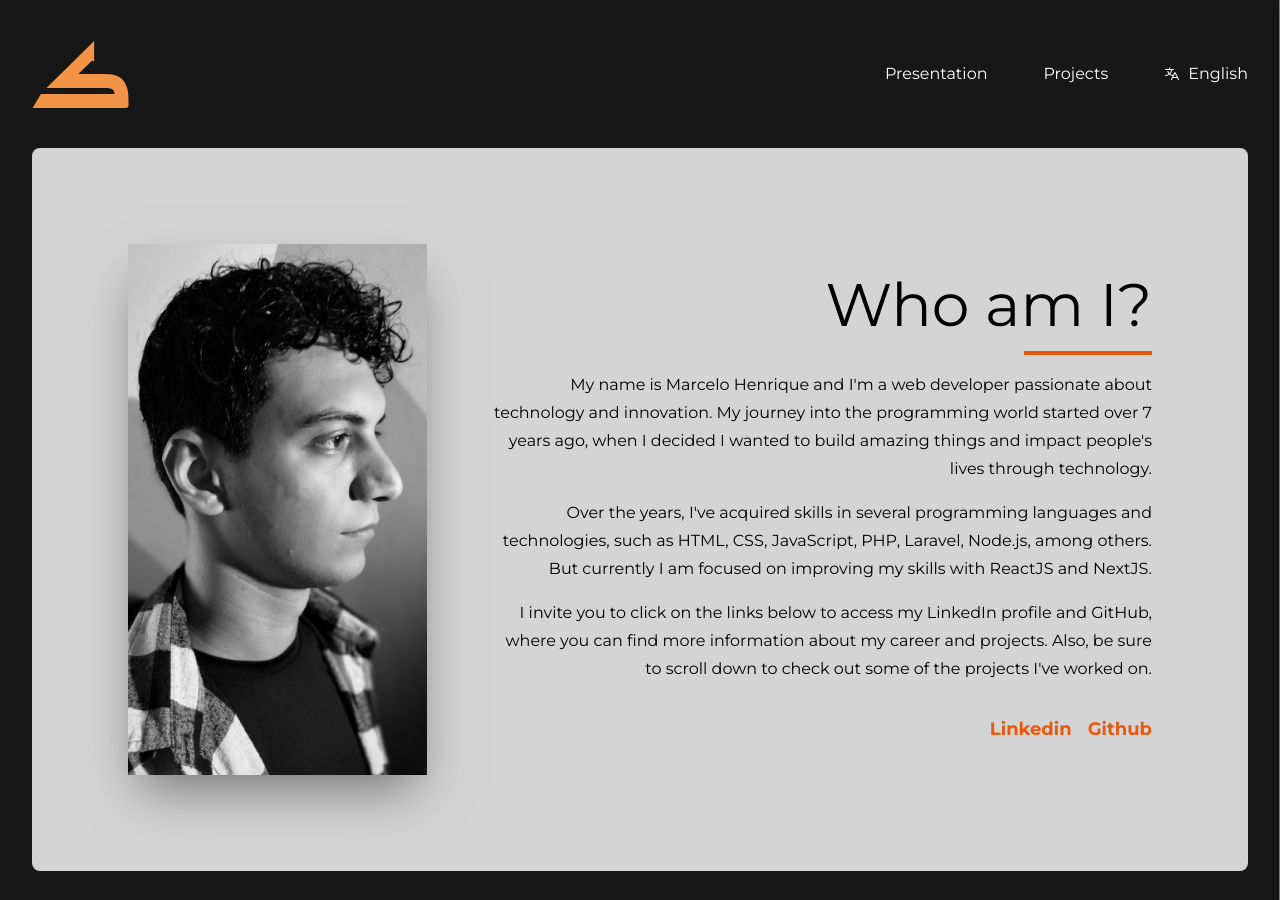
Test: Change languages › should change presentation title language when user choose another language on dropdown
Click the button "English". click: (1206, 74)
box: [1164, 62, 1248, 86]
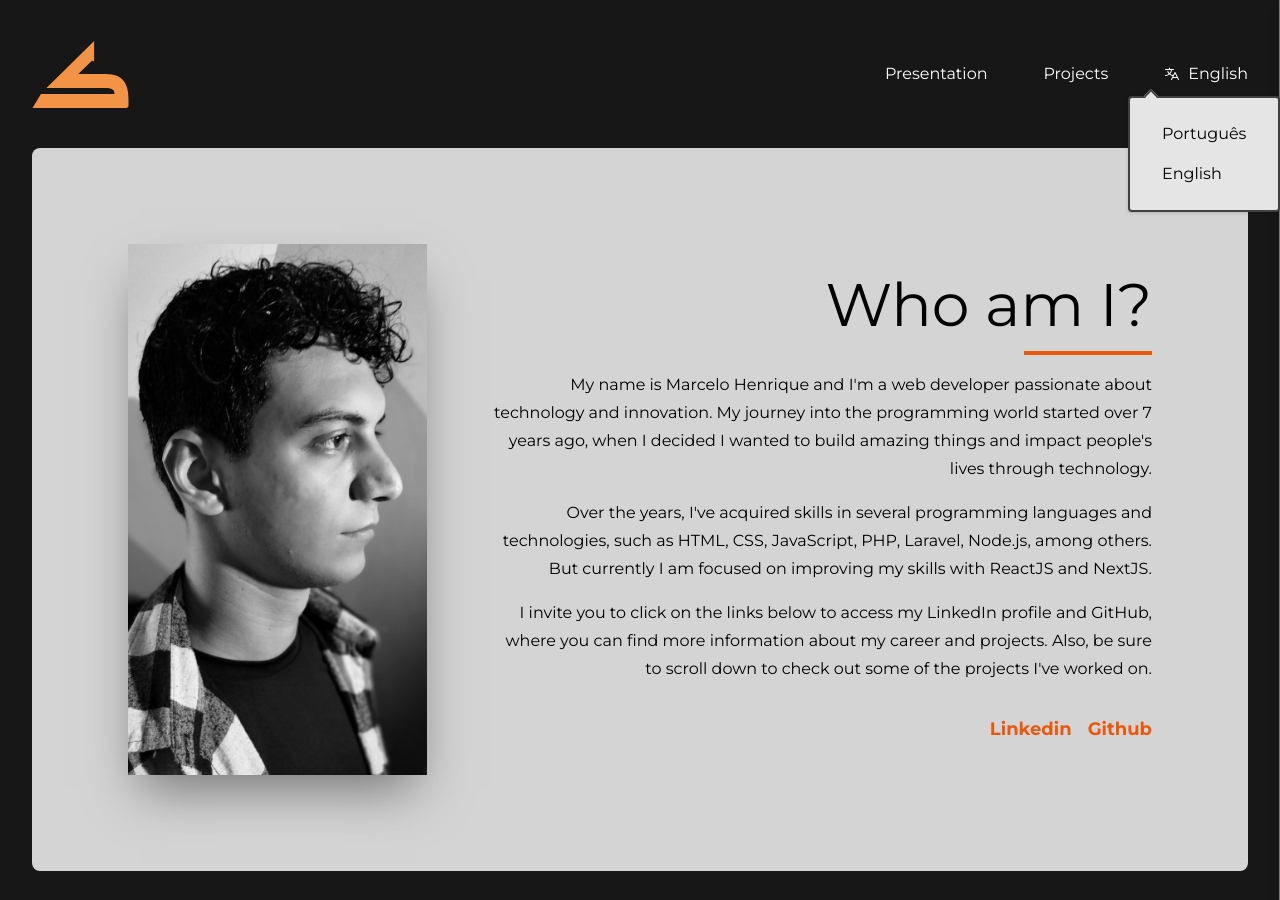
Click the menu item "Português". click: (1204, 134)
box: [1146, 114, 1262, 154]
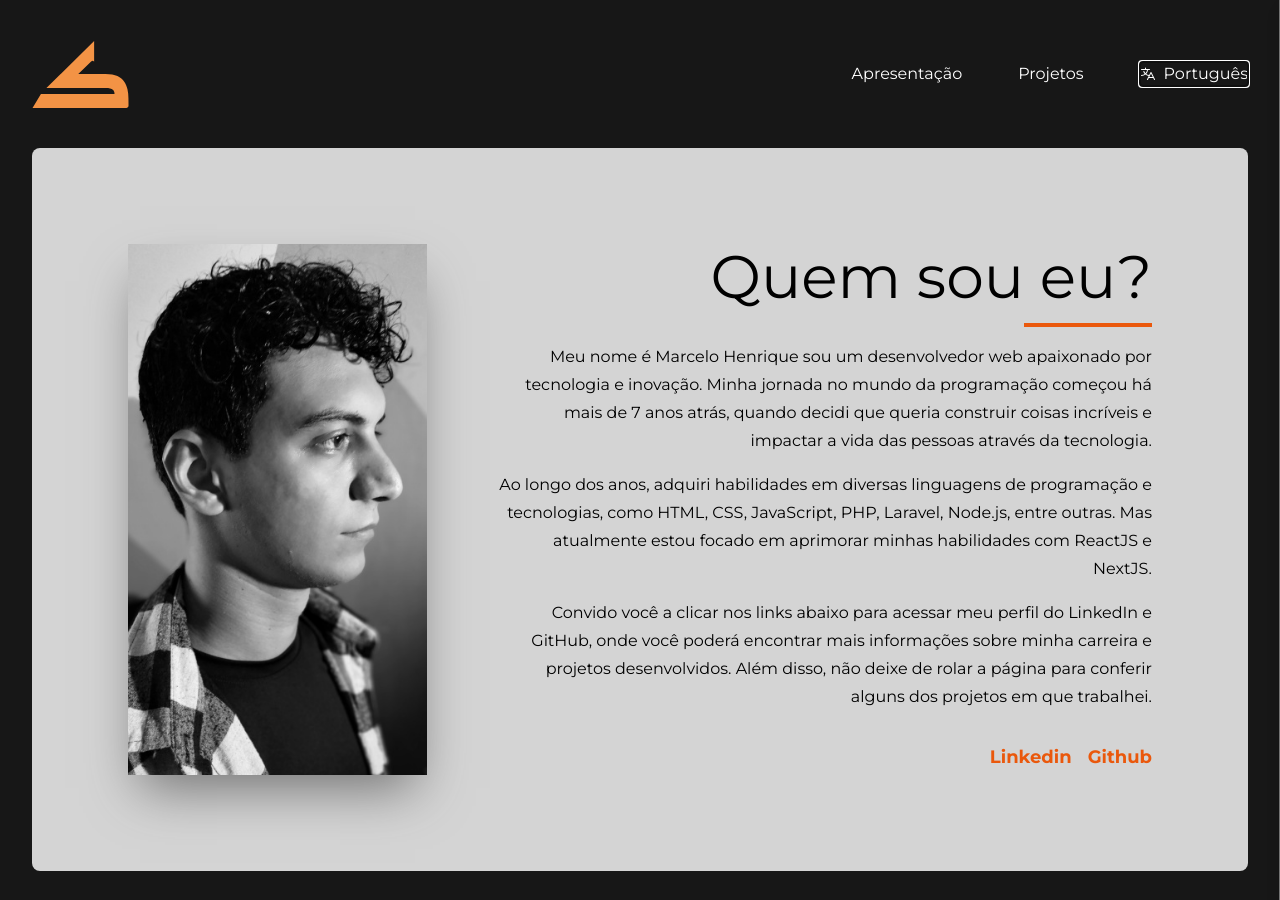
Now the heading named "who am i" shows "Quem sou eu", box [711, 240, 1152, 314]
Click the button named "english". click: (1194, 74)
box: [1140, 62, 1248, 86]
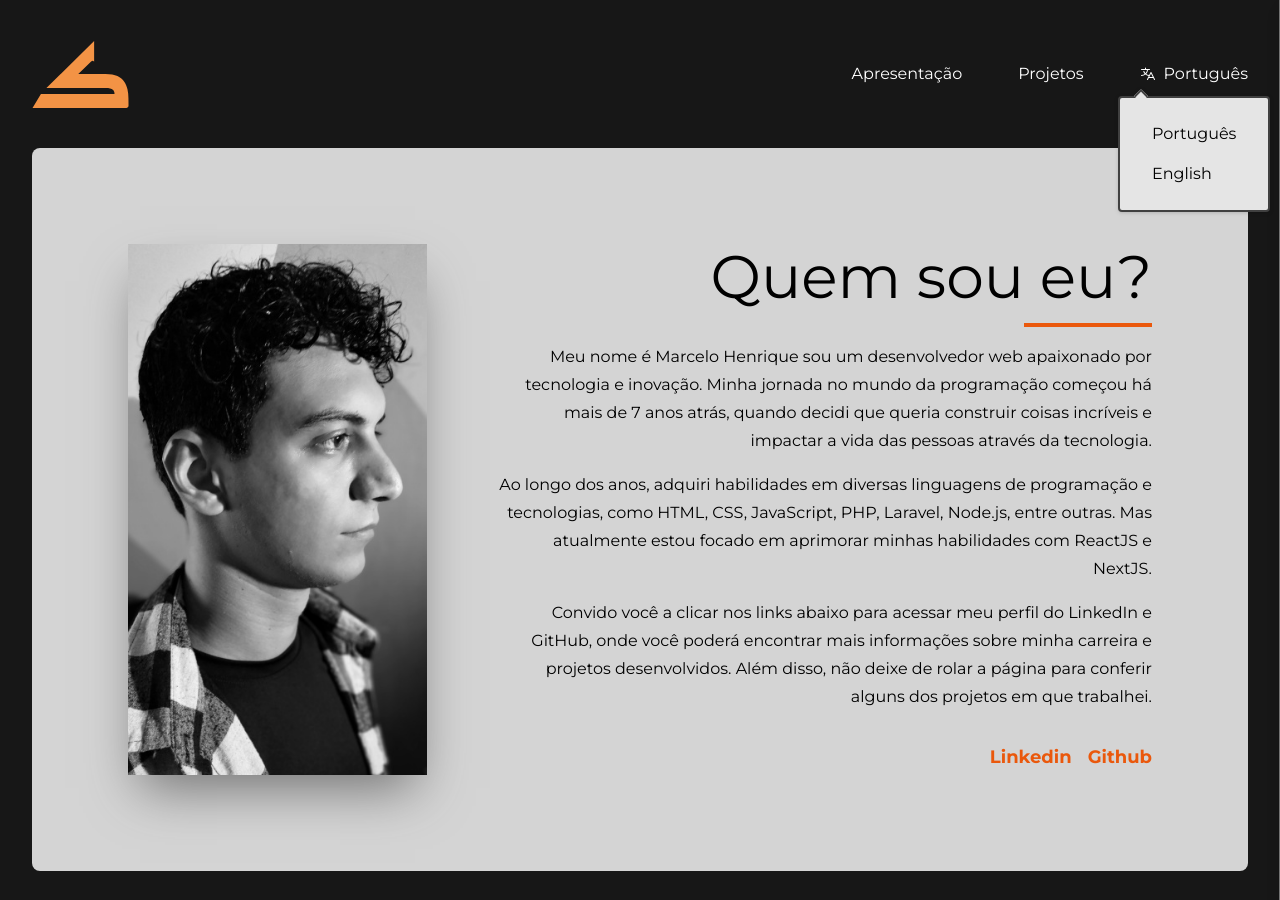
Click the menu item "English". click: (1194, 174)
box: [1136, 154, 1252, 194]
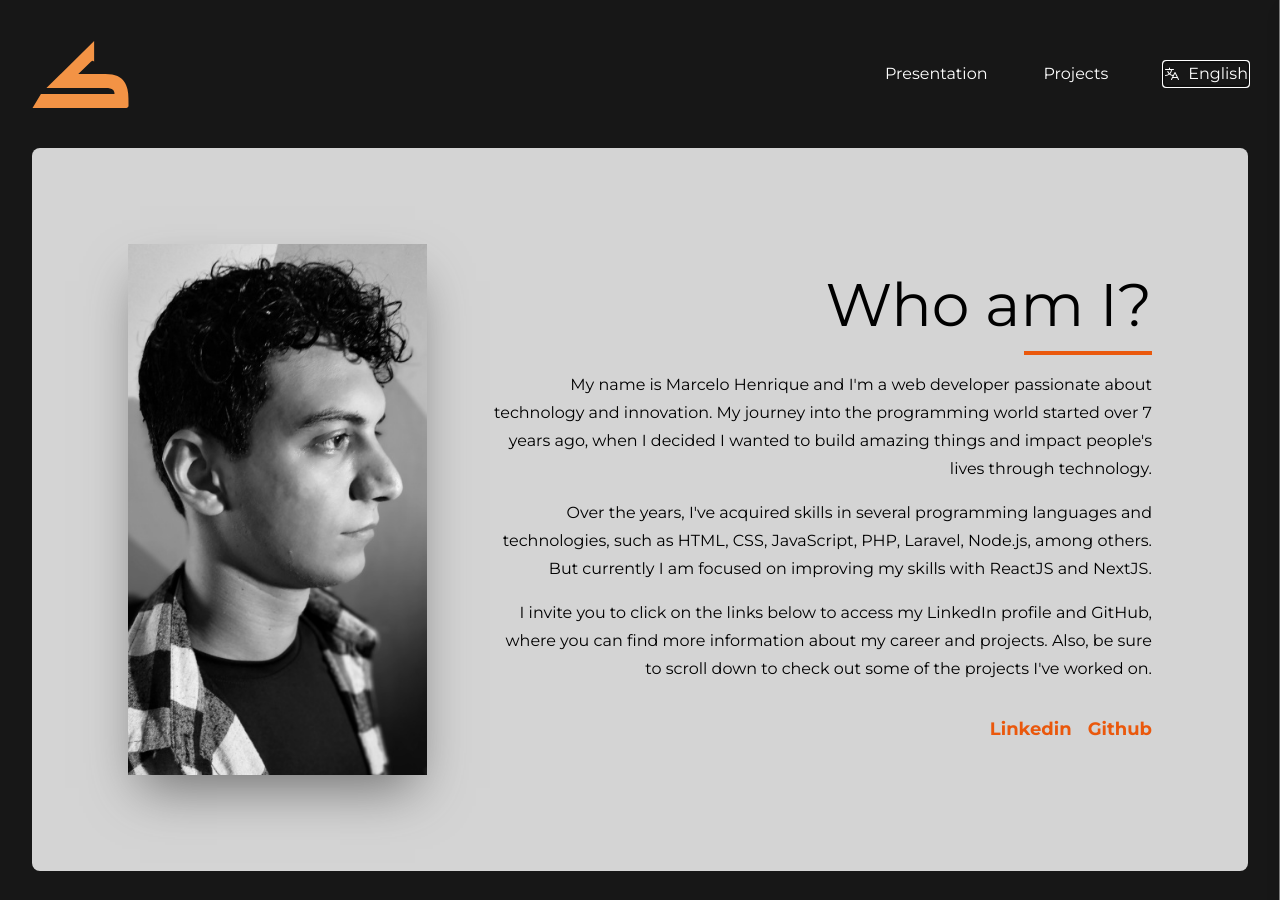
Now the heading "Who am I?" is shown, box [826, 268, 1152, 342]
